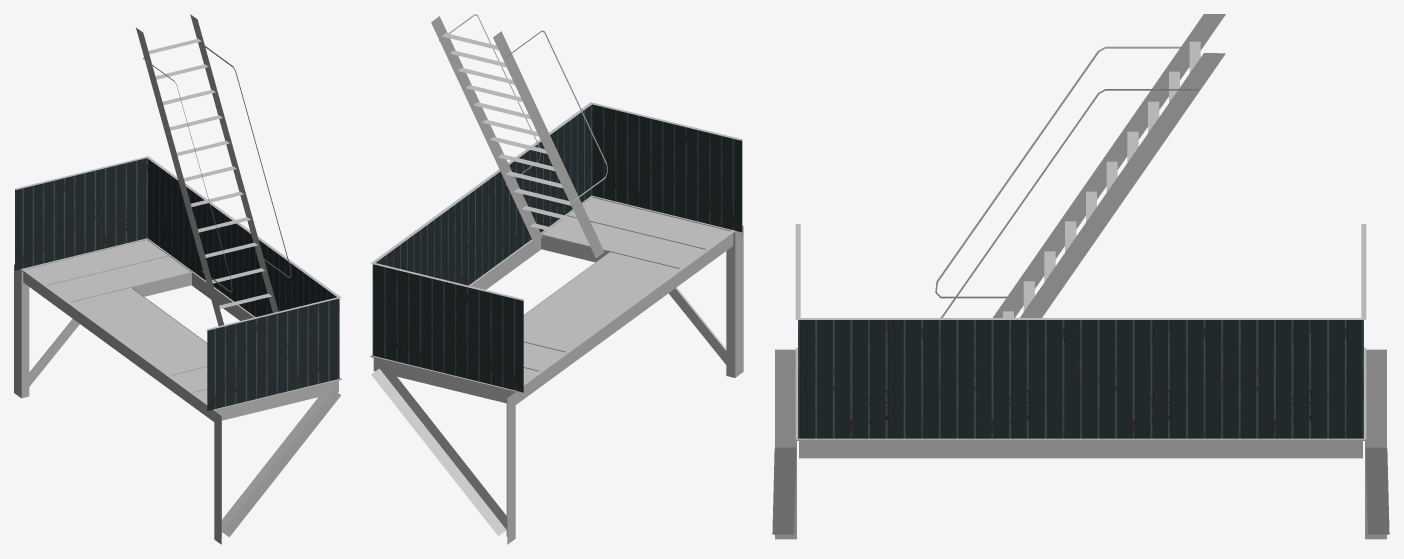
The model's file is Fire_escape2_LOD2.fbx.
The picture shows the model from 3 angles, left to right: view 1: azimuth 30°, elevation 25°; view 2: azimuth 150°, elevation 25°; view 3: azimuth 270°, elevation 25°; orthographic projection. The views are drawn at different scales.
Visible parts, largest first — view 1: polySurface952; view 2: polySurface952; view 3: polySurface952.
Part boxes in pixels (box(x1,y1,x2,y2)): polySurface952: box(14, 14, 341, 544); polySurface952: box(370, 14, 743, 544); polySurface952: box(772, 14, 1389, 539).
Size of the model in its own units: 1.62 by 4.49 by 4.38.
